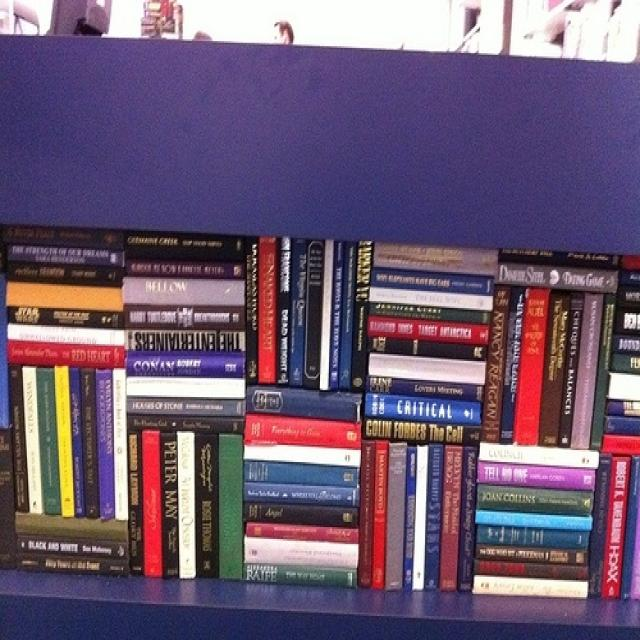book: (514, 288, 550, 447), (538, 290, 570, 446), (481, 284, 509, 445), (365, 245, 499, 278), (494, 258, 624, 292), (244, 386, 365, 422), (601, 454, 630, 598), (362, 392, 486, 425), (367, 268, 498, 299), (558, 294, 584, 448), (218, 435, 245, 582), (501, 288, 526, 446), (244, 534, 360, 568), (590, 294, 615, 448), (35, 368, 61, 515), (366, 353, 489, 384), (248, 416, 362, 448), (120, 234, 250, 262), (588, 454, 613, 598), (474, 461, 598, 490), (124, 350, 248, 379), (472, 441, 599, 469), (121, 277, 247, 305), (244, 459, 361, 489), (194, 433, 218, 579), (472, 485, 595, 513), (364, 286, 494, 312), (440, 444, 463, 590), (9, 363, 31, 515), (95, 369, 117, 520), (240, 442, 362, 469), (385, 443, 407, 591), (141, 430, 163, 578), (363, 376, 488, 402), (303, 242, 325, 389), (6, 340, 130, 366), (22, 368, 44, 514), (5, 324, 128, 350), (619, 448, 640, 600), (53, 370, 75, 515), (364, 317, 491, 342), (367, 335, 492, 360), (471, 523, 590, 549), (458, 445, 479, 591), (161, 433, 182, 578), (7, 243, 128, 268), (352, 243, 372, 394), (243, 502, 359, 528), (339, 242, 359, 392), (80, 369, 100, 518), (289, 240, 309, 389), (472, 509, 594, 533), (258, 240, 278, 386), (126, 378, 250, 401), (357, 440, 376, 588), (68, 370, 87, 517), (425, 444, 444, 590), (177, 432, 196, 578), (7, 262, 127, 285), (125, 396, 249, 418), (6, 306, 129, 328), (242, 521, 358, 544), (365, 303, 492, 324), (122, 306, 246, 327), (412, 446, 430, 590), (371, 442, 388, 590), (470, 560, 589, 581), (79, 369, 96, 515), (125, 258, 247, 278), (330, 243, 346, 392), (473, 544, 591, 564), (276, 238, 292, 385), (242, 238, 258, 385), (319, 244, 335, 391), (127, 430, 143, 576), (113, 370, 128, 520), (404, 445, 419, 589)
